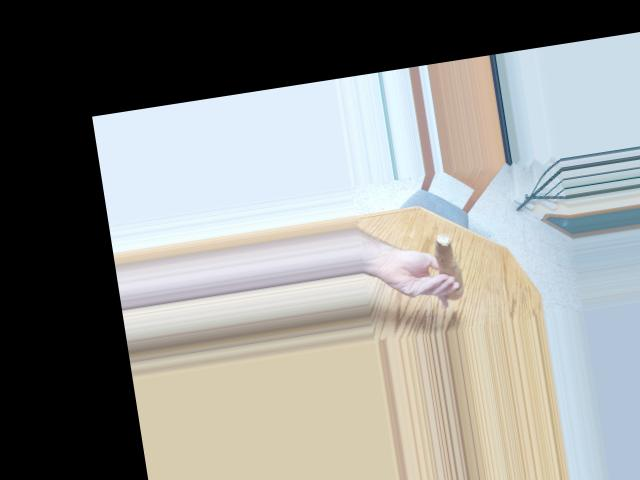sweet_potato: (428, 236, 467, 296)
